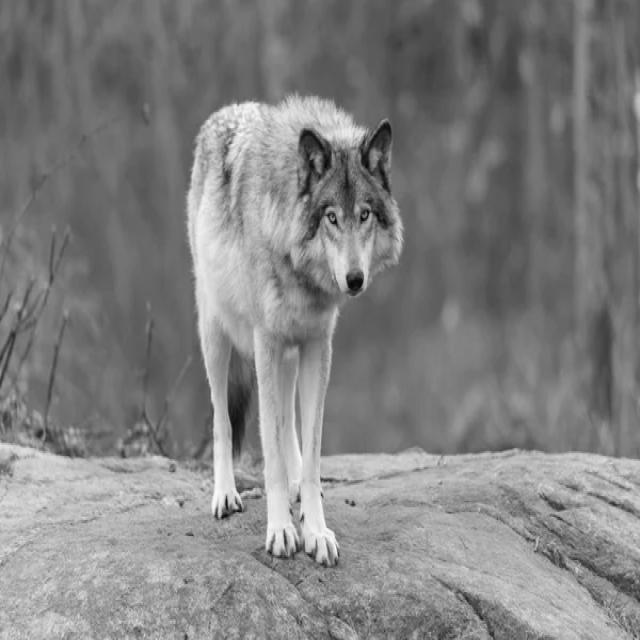Animal: (188, 95, 403, 568)
